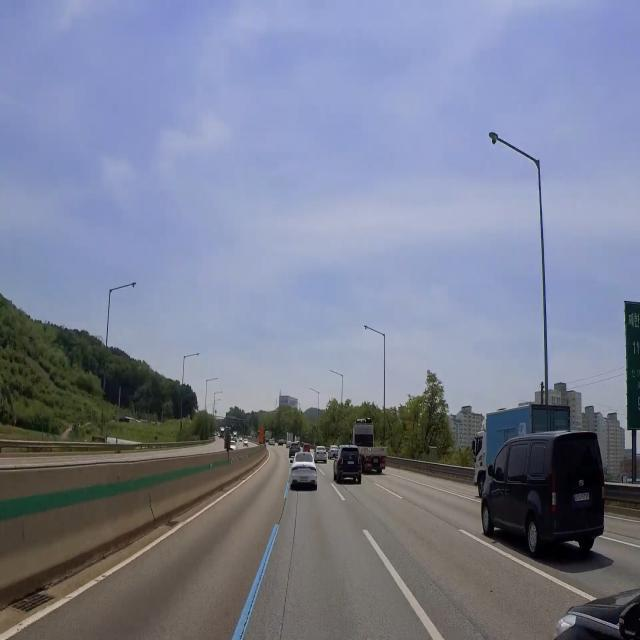car: (572, 486, 591, 508), (370, 454, 383, 470), (298, 474, 311, 485), (346, 458, 359, 468)
